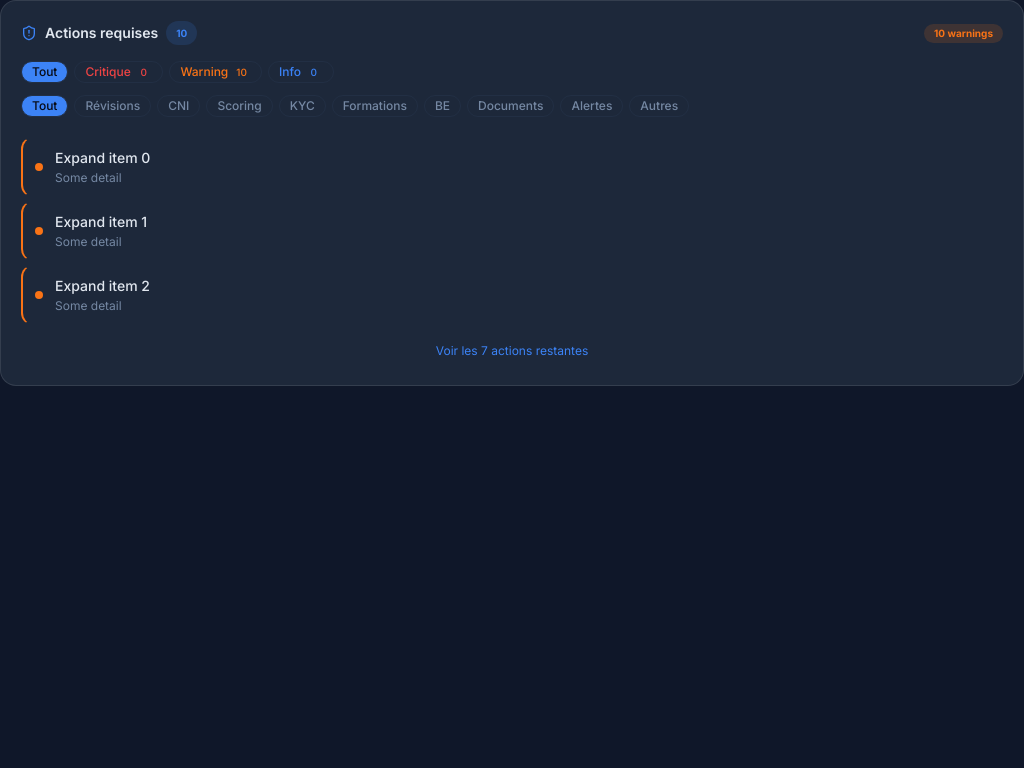
Test: DashboardCockpit › expands the list when clicking the expand button
Check: the text "Expand item 9" is not shown
Step 1. Click the button "Voir les 7 actions restantes" → [512, 351], box [21,337,1003,365]
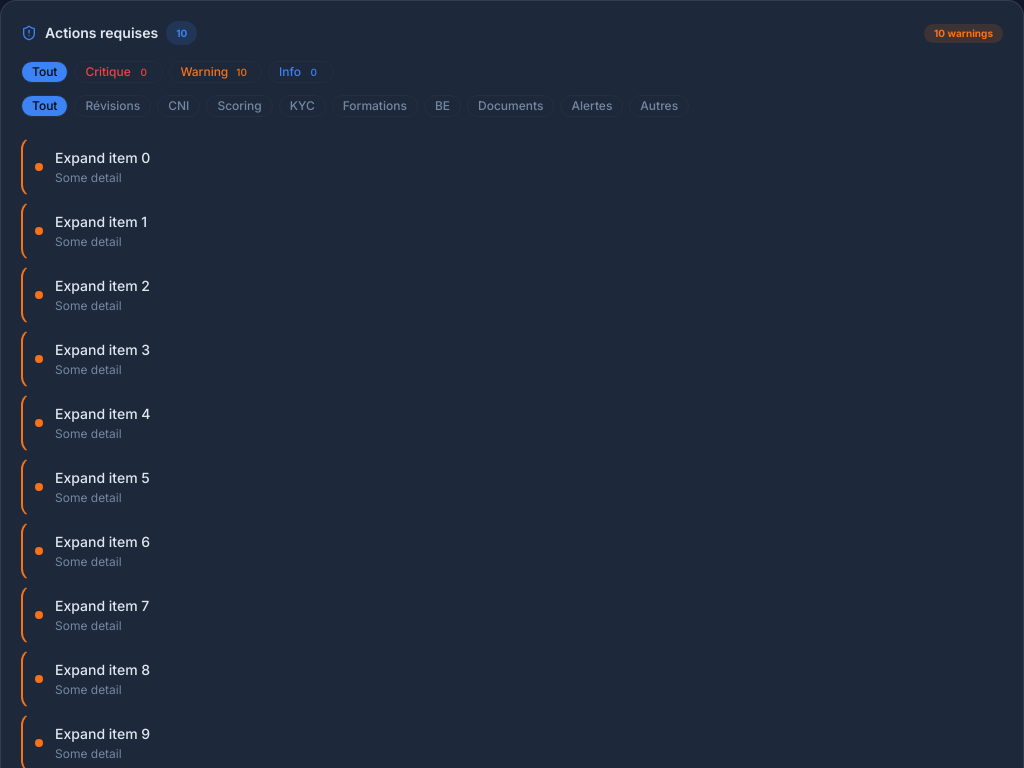
Check: the text "Expand item 9" is shown, box [55,725,150,742]
